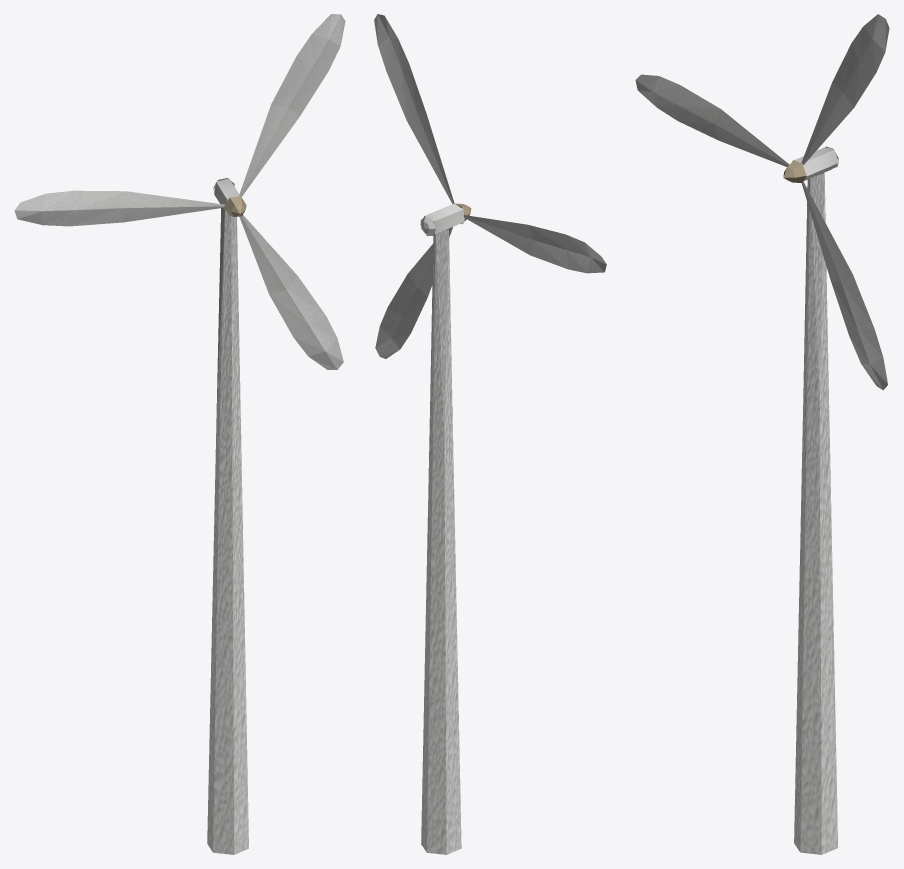
Rendered from windmil.obj.
The picture shows the model from 3 angles, left to right: view 1: azimuth 30°, elevation 25°; view 2: azimuth 150°, elevation 25°; view 3: azimuth 330°, elevation 25°; orthographic projection. The views are drawn at different scales.
Visible parts, largest first — view 1: 0______011; view 2: 0______011; view 3: 0______011.
Boxes of the visible parts, x1,y1,x2,y2 form: 0______011: (14, 14, 345, 854); 0______011: (374, 14, 606, 854); 0______011: (635, 14, 889, 854).
Bounding box in the file's own units: 3.38 × 9.33 × 0.9075.
Materials: 3 (2 with a texture image).
